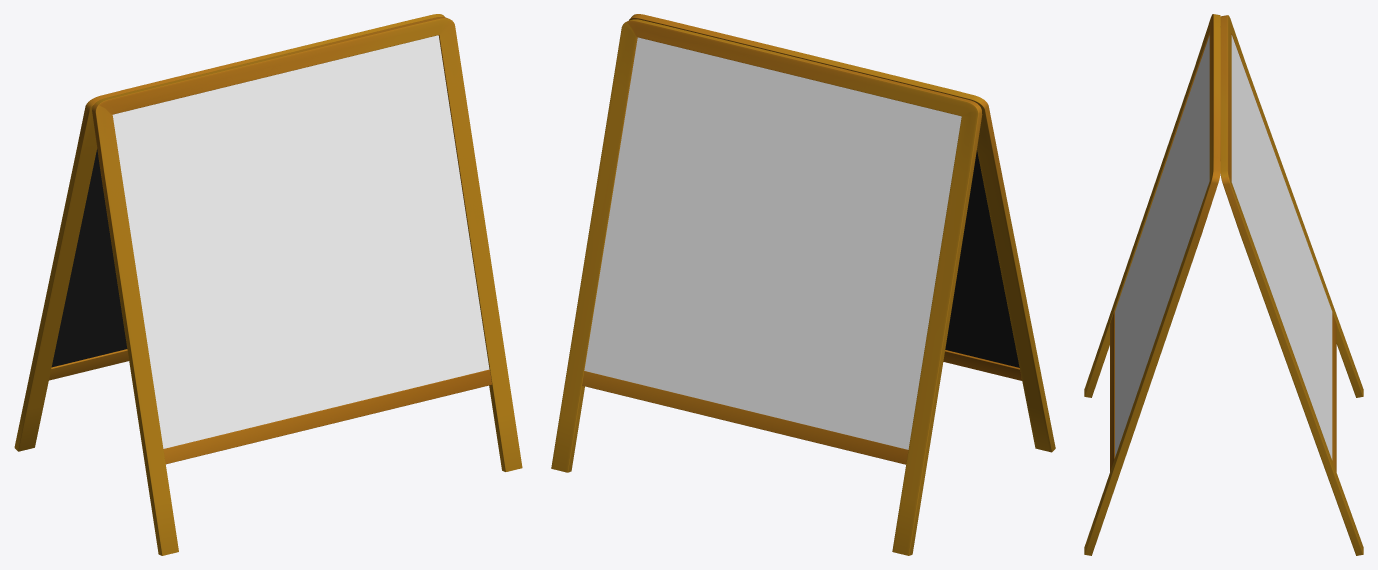
Rendered from Menu_Stander_ Board.fbx.
3 renders of one model, left to right at view 1: azimuth 30°, elevation 25°; view 2: azimuth 150°, elevation 25°; view 3: azimuth 270°, elevation 25°, orthographic. The views are drawn at different scales.
Visible parts, largest first — view 1: Menu_Stander_Board_BlackBoard_Ad002, Menu_Stander_Board_Frame, Menu_Stander_Board_BlackBoard_AdBacker; view 2: Menu_Stander_Board_BlackBoard_Ad001, Menu_Stander_Board_Frame, Menu_Stander_Board_BlackBoard_AdBacker; view 3: Menu_Stander_Board_Frame, Menu_Stander_Board_BlackBoard_Ad001, Menu_Stander_Board_BlackBoard_Ad002.
Part boxes in pixels (x1,y1,x2,y2): Menu_Stander_Board_BlackBoard_Ad002: [112, 35, 489, 448]; Menu_Stander_Board_Frame: [14, 14, 522, 555]; Menu_Stander_Board_BlackBoard_AdBacker: [51, 149, 127, 367]; Menu_Stander_Board_BlackBoard_Ad001: [584, 37, 961, 449]; Menu_Stander_Board_Frame: [551, 14, 1055, 555]; Menu_Stander_Board_BlackBoard_AdBacker: [945, 150, 1019, 367]; Menu_Stander_Board_Frame: [1084, 14, 1363, 555]; Menu_Stander_Board_BlackBoard_Ad001: [1231, 35, 1332, 459]; Menu_Stander_Board_BlackBoard_Ad002: [1115, 35, 1209, 456].
Bounding box in the file's own units: 33.27 × 35.66 × 23.68.
4 materials, 4 textured.
